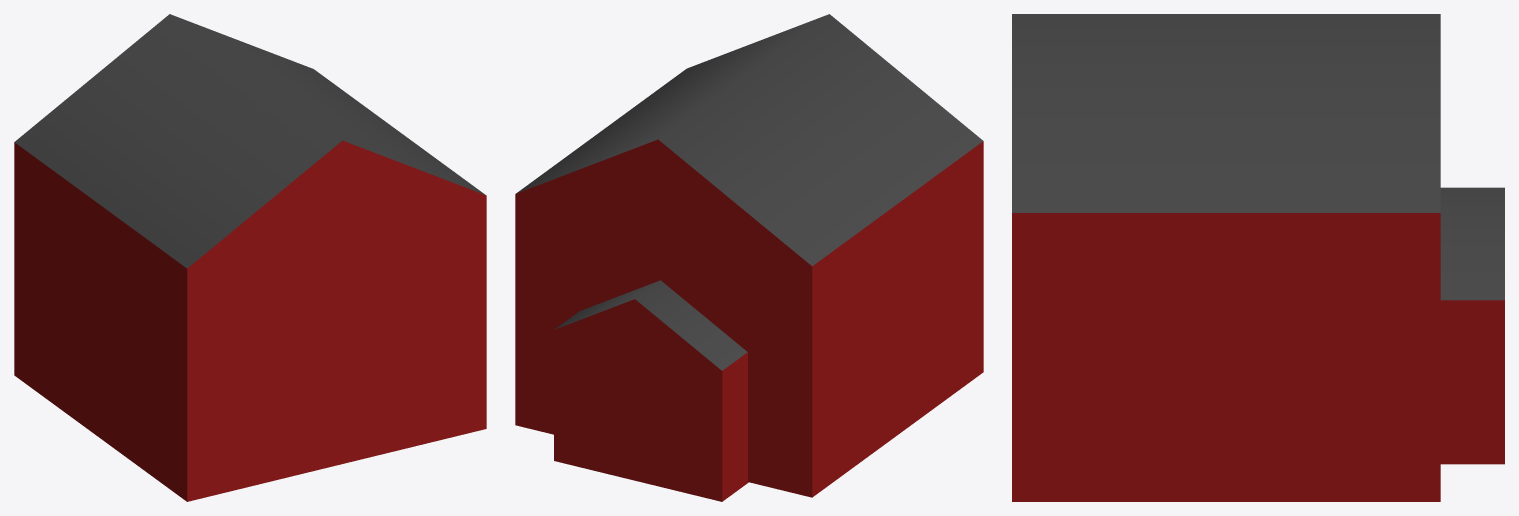
The model's file is Red House.fbx.
3 views of the same model, side by side, from view 1: azimuth 30°, elevation 25°; view 2: azimuth 150°, elevation 25°; view 3: azimuth 270°, elevation 25° (orthographic). The views are drawn at different scales.
Parts seen in each view (by area): view 1: polySurface9; view 2: polySurface9; view 3: polySurface9.
Part boxes in pixels (<box>): polySurface9: <box>14,14,486,501</box>; polySurface9: <box>515,14,983,501</box>; polySurface9: <box>1012,14,1504,501</box>.
Size of the model in its own units: 2.05 by 2.13 by 2.36.
